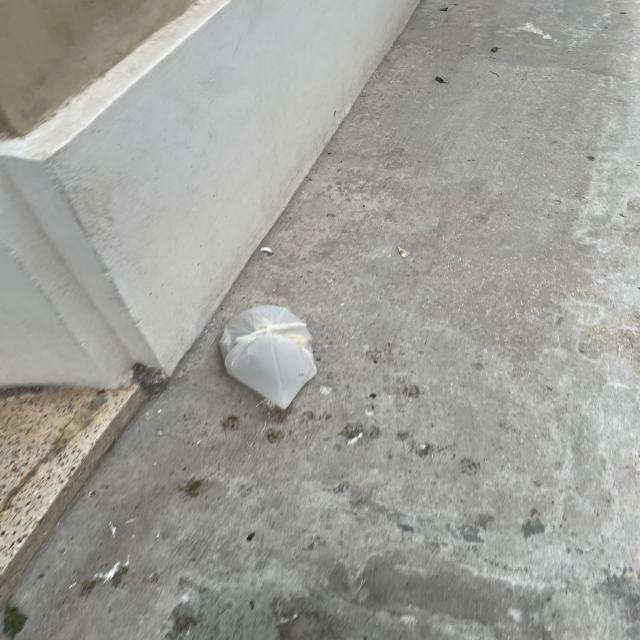white_bag: (212, 298, 332, 434)
